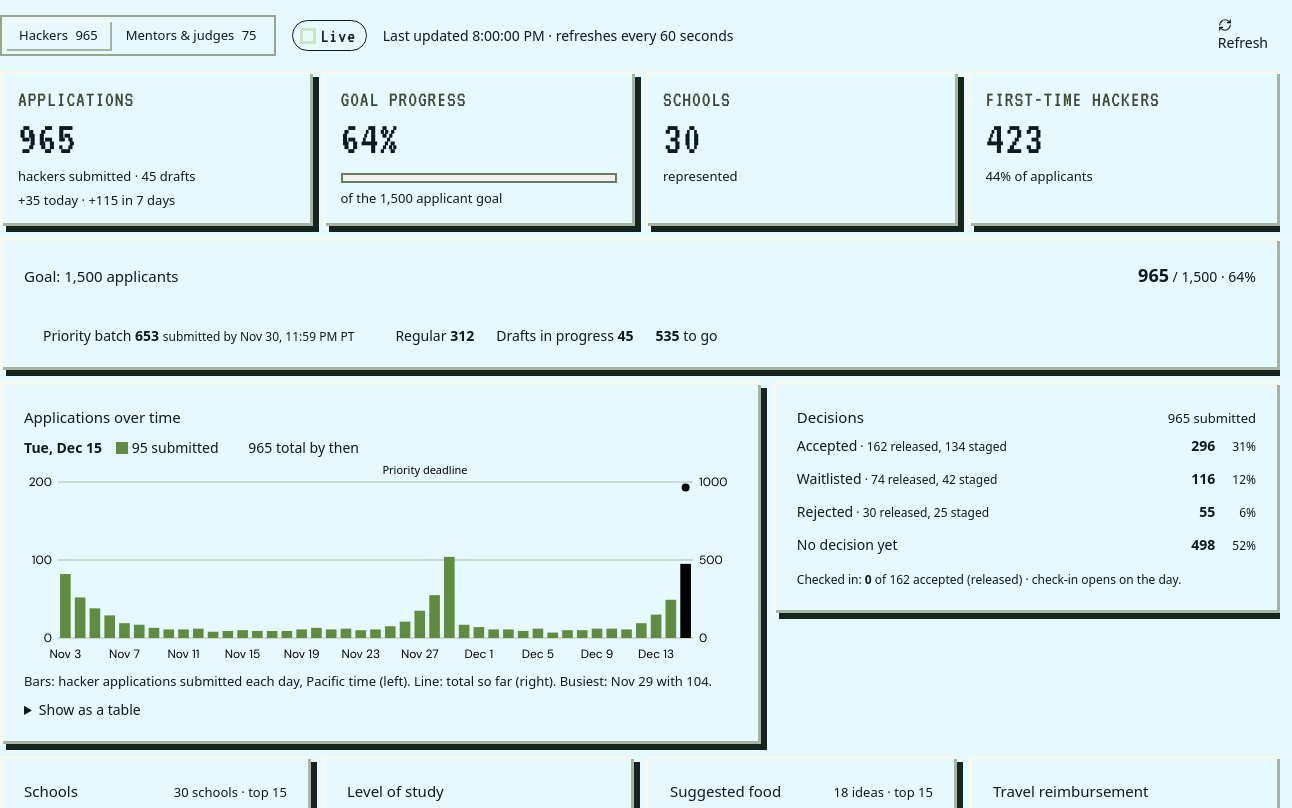
organizer stats tabs › opens on hackers, with mentors & judges in a tab of their own
This screenshot has width=1292, height=808.
Expected: the list named "Hacker overview" is shown, [0, 71, 1280, 226]
Expected: the heading "Suggested food" is shown, [670, 780, 781, 803]
Click the tab "Mentors & judges 75" at (191, 36), box [112, 20, 271, 51]
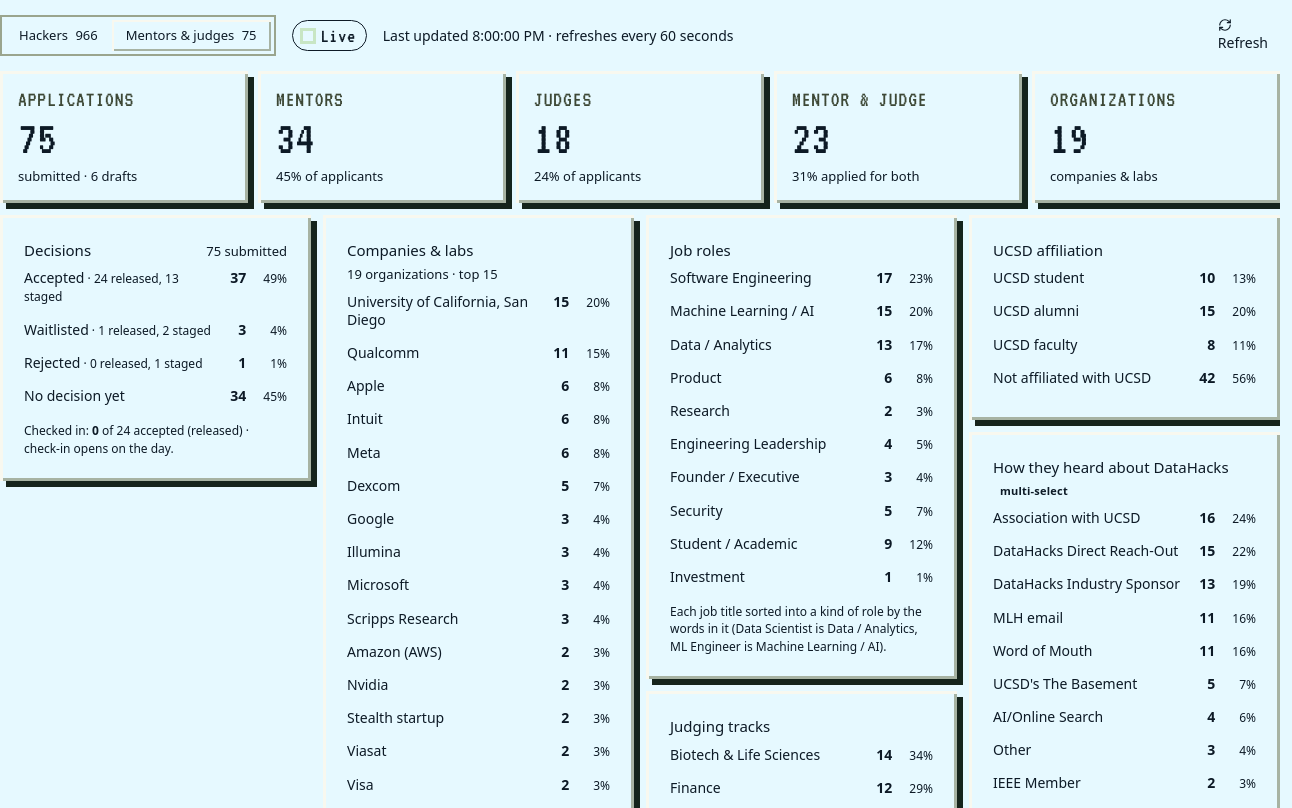
Expected: the heading "Decisions" is shown, [24, 239, 91, 261]
Result: the heading "Judging tracks" is shown at [670, 715, 770, 738]
Result: the heading "Suggested food" is gone
